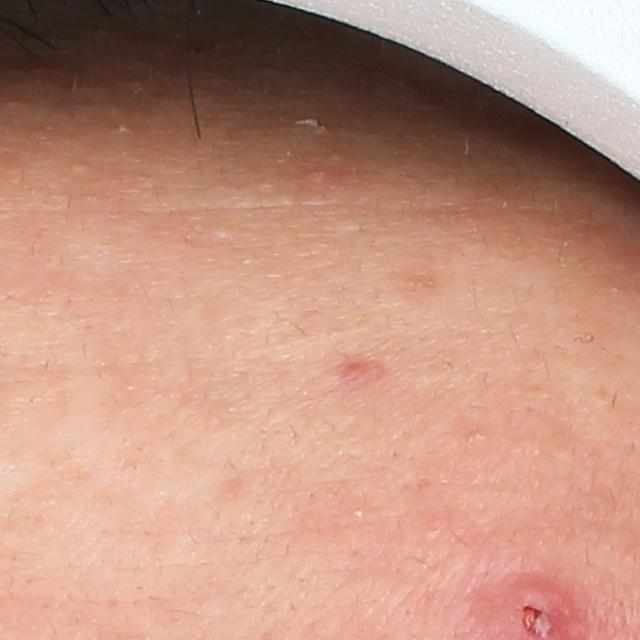papule: (337, 350, 382, 386)
